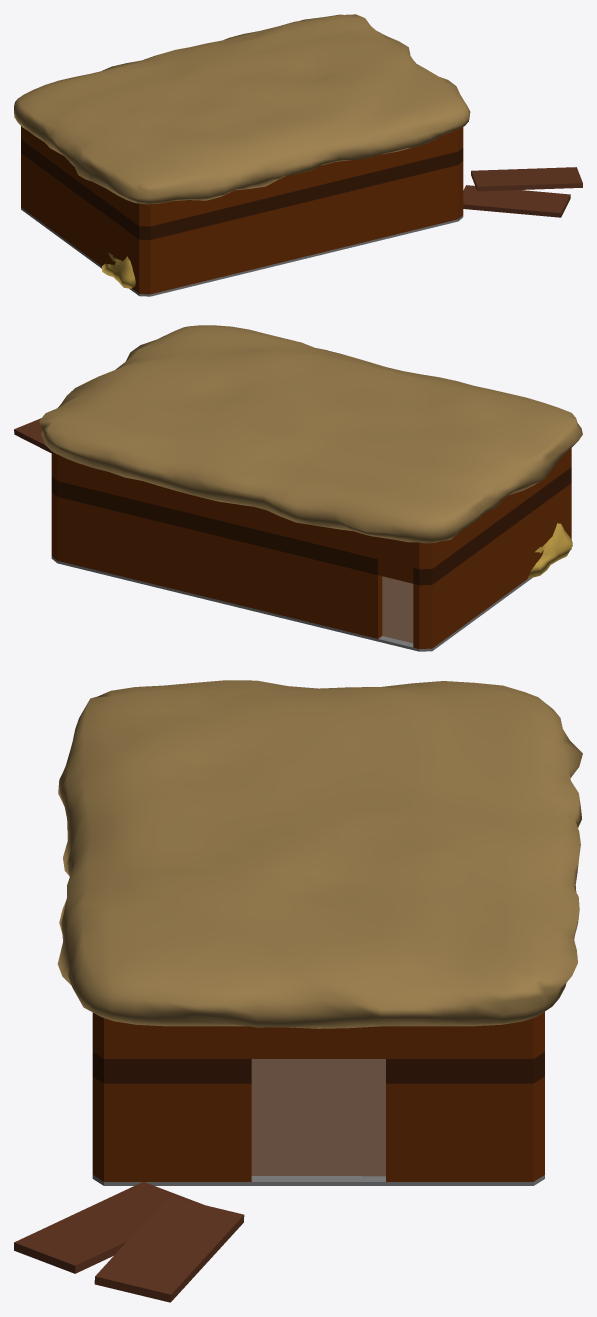
File: Barn1.glb
3 renders of one model, top to bottom at view 1: azimuth 30°, elevation 25°; view 2: azimuth 150°, elevation 25°; view 3: azimuth 270°, elevation 25°, orthographic. The views are drawn at different scales.
Parts seen in each view (by area): view 1: Roof, BarnBase, Door, Door2, Hay; view 2: Roof, BarnBase, Hay, Door2; view 3: Roof, BarnBase, Door2, Door.
Part boxes in pixels (left/top/right/bottom): Roof: left=14, top=14, right=470, bottom=204; BarnBase: left=21, top=126, right=463, bottom=296; Door: left=463, top=185, right=570, bottom=217; Door2: left=471, top=167, right=582, bottom=191; Hay: left=102, top=252, right=135, bottom=288; Roof: left=39, top=325, right=582, bottom=543; BarnBase: left=51, top=448, right=571, bottom=651; Hay: left=527, top=523, right=572, bottom=578; Door2: left=14, top=418, right=51, bottom=453; Roof: left=57, top=680, right=582, bottom=1028; BarnBase: left=92, top=1011, right=544, bottom=1185; Door2: left=94, top=1196, right=244, bottom=1302; Door: left=14, top=1181, right=203, bottom=1273.
Bounding box in the file's own units: 43.97 × 11.16 × 25.16.
7 materials, 3 textured.
